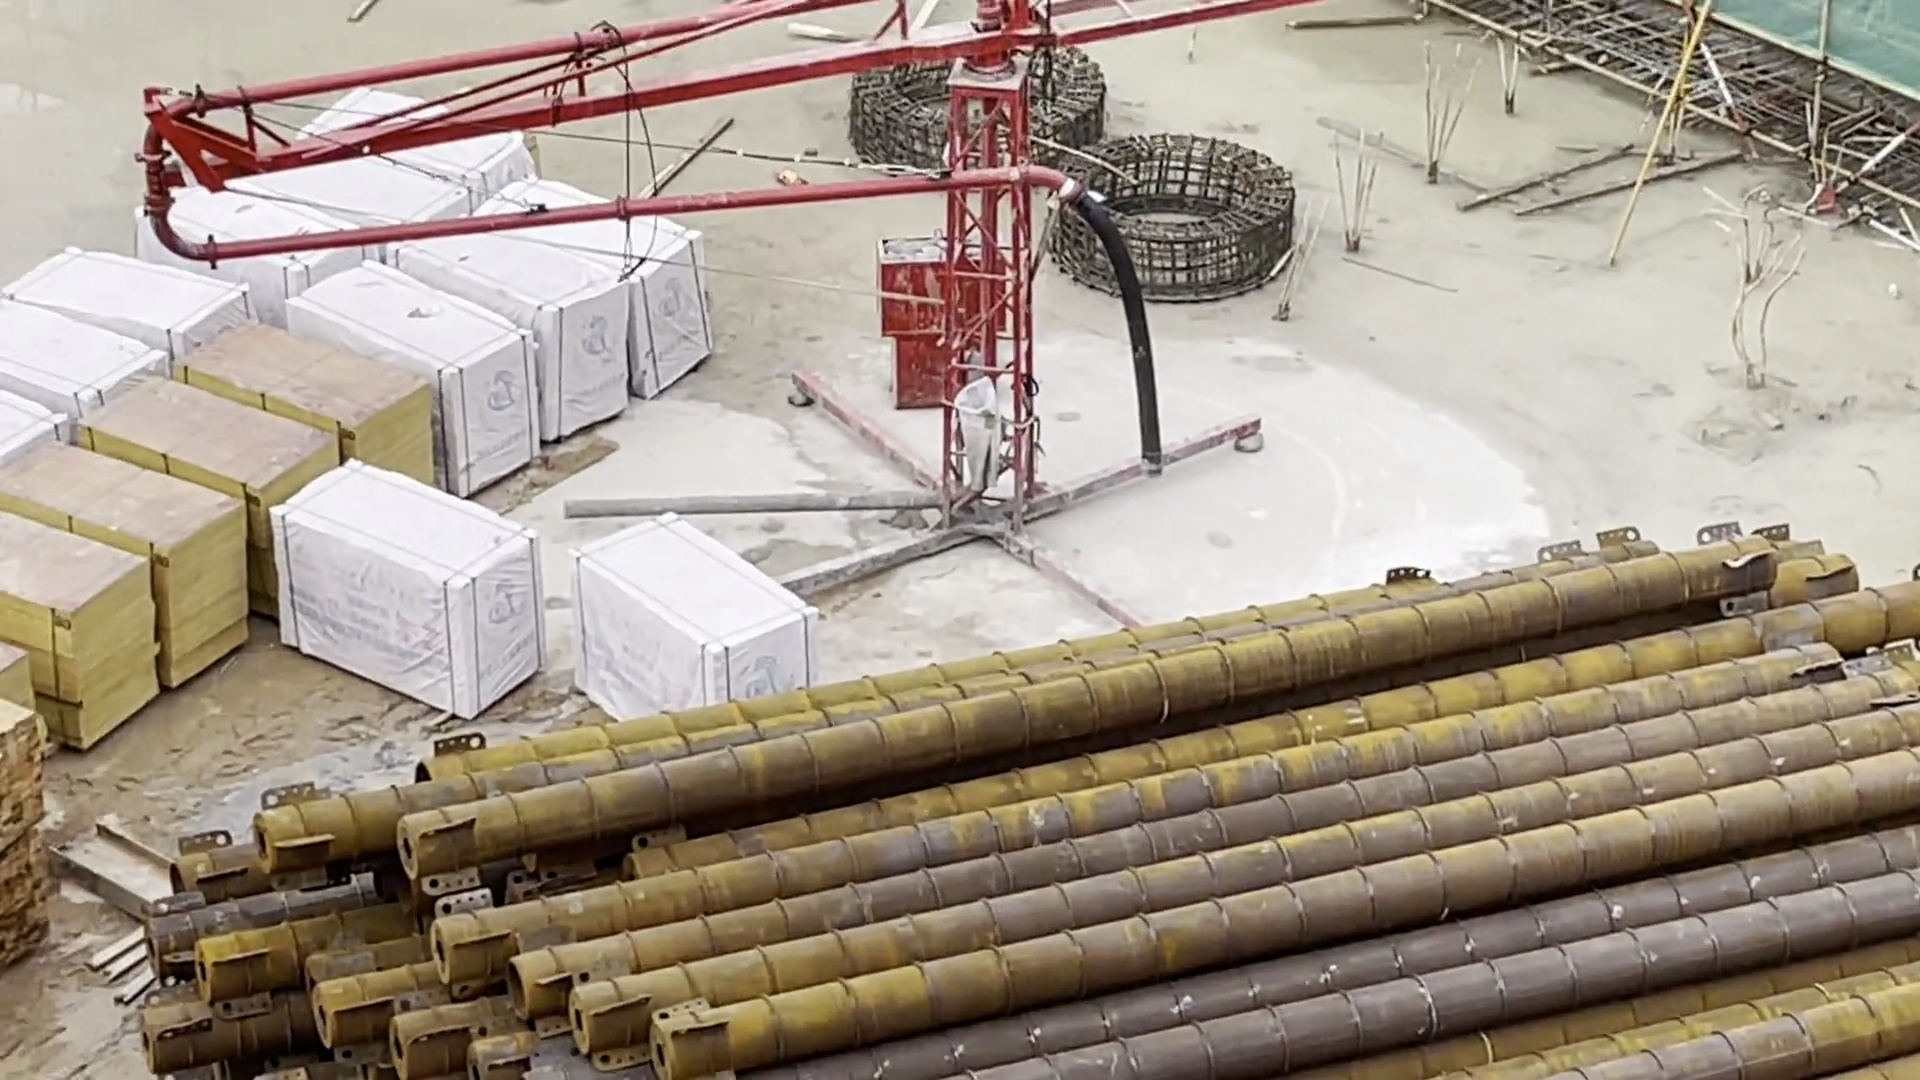board: (1, 318, 429, 748)
